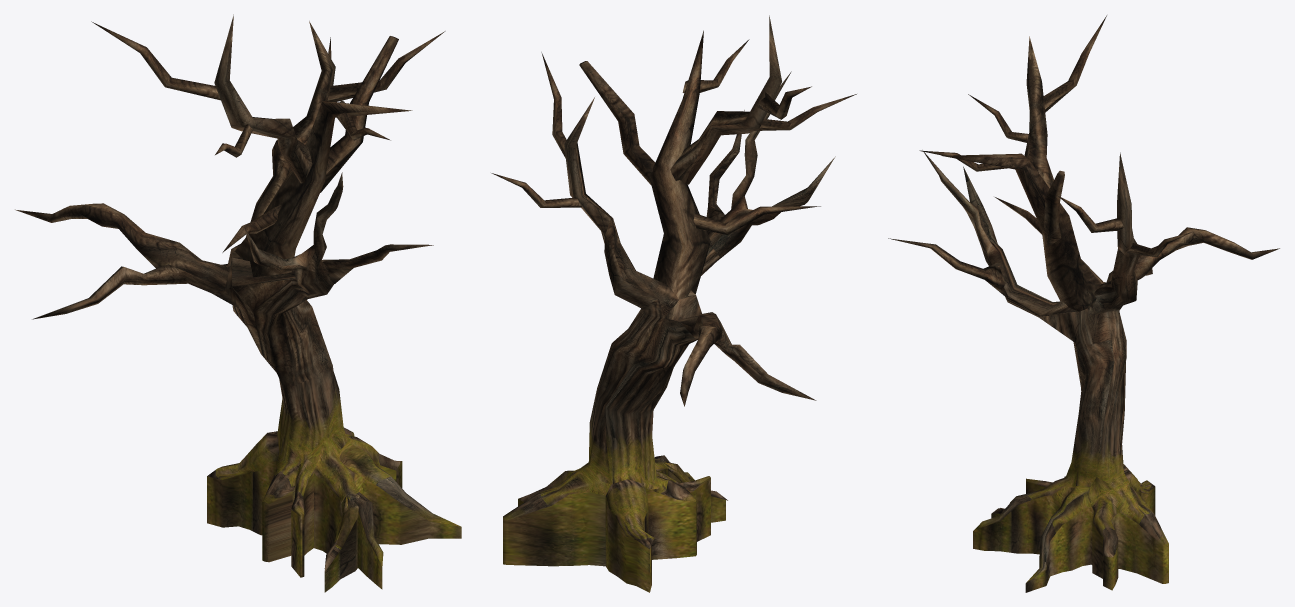
The model's file is n_SWCdtree02.glb.
3 renders of one model, left to right at view 1: azimuth 30°, elevation 25°; view 2: azimuth 150°, elevation 25°; view 3: azimuth 270°, elevation 25°, orthographic. The views are drawn at different scales.
Parts seen in each view (by area): view 1: n_SWCdtree02; view 2: n_SWCdtree02; view 3: n_SWCdtree02.
Part boxes in pixels (bbox=[...]): n_SWCdtree02: bbox=[15, 14, 461, 592]; n_SWCdtree02: bbox=[491, 15, 856, 592]; n_SWCdtree02: bbox=[888, 15, 1279, 592].
Size of the model in its own units: 7.04 by 10.93 by 8.33.
Materials: 2 (2 with a texture image).
